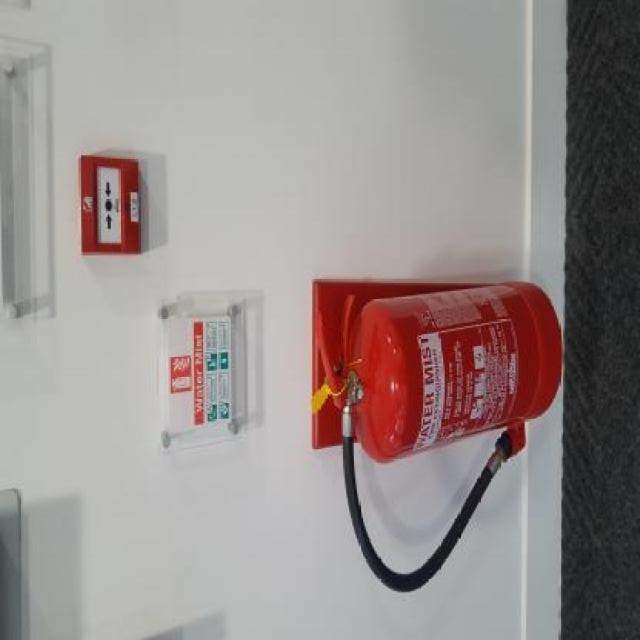fire extinguisher: (303, 265, 563, 597)
